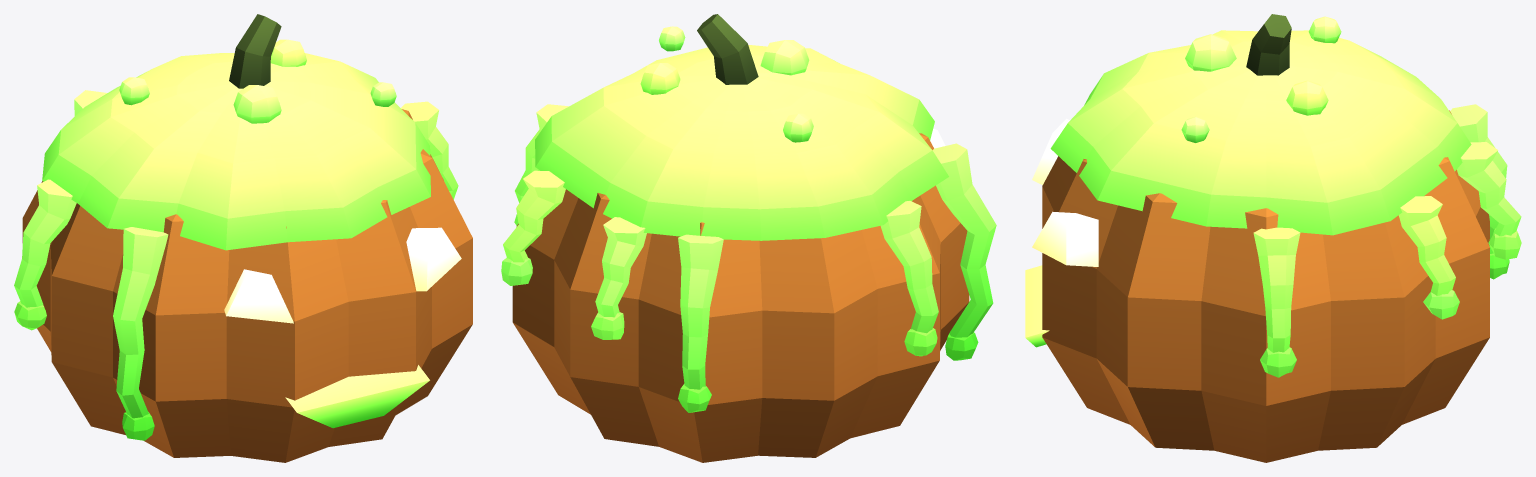
File: PlayGround_Kit_Giant_Stew_Pumpkin.fbx
The picture shows the model from 3 angles, left to right: view 1: azimuth 30°, elevation 25°; view 2: azimuth 150°, elevation 25°; view 3: azimuth 270°, elevation 25°; orthographic projection. The views are drawn at different scales.
Parts seen in each view (by area): view 1: PlayGround_Kit_Giant_Stew_Pumpkin; view 2: PlayGround_Kit_Giant_Stew_Pumpkin; view 3: PlayGround_Kit_Giant_Stew_Pumpkin.
Boxes of the visible parts, bbox=[...] form: PlayGround_Kit_Giant_Stew_Pumpkin: bbox=[14, 14, 472, 462]; PlayGround_Kit_Giant_Stew_Pumpkin: bbox=[501, 14, 996, 462]; PlayGround_Kit_Giant_Stew_Pumpkin: bbox=[1025, 14, 1521, 462].
Size of the model in its own units: 3.26 by 2.94 by 3.16.
